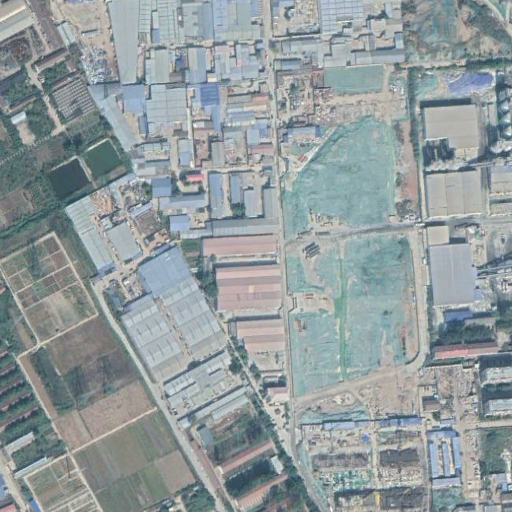cw: (280, 66, 423, 396), (405, 5, 512, 59)
